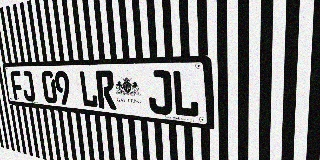0: (41, 71, 58, 104)
9: (54, 71, 72, 105)
F: (10, 71, 24, 101)
J: (147, 70, 173, 115), (20, 71, 36, 102)
L: (171, 70, 200, 118), (78, 71, 98, 108)
R: (95, 70, 117, 110)
